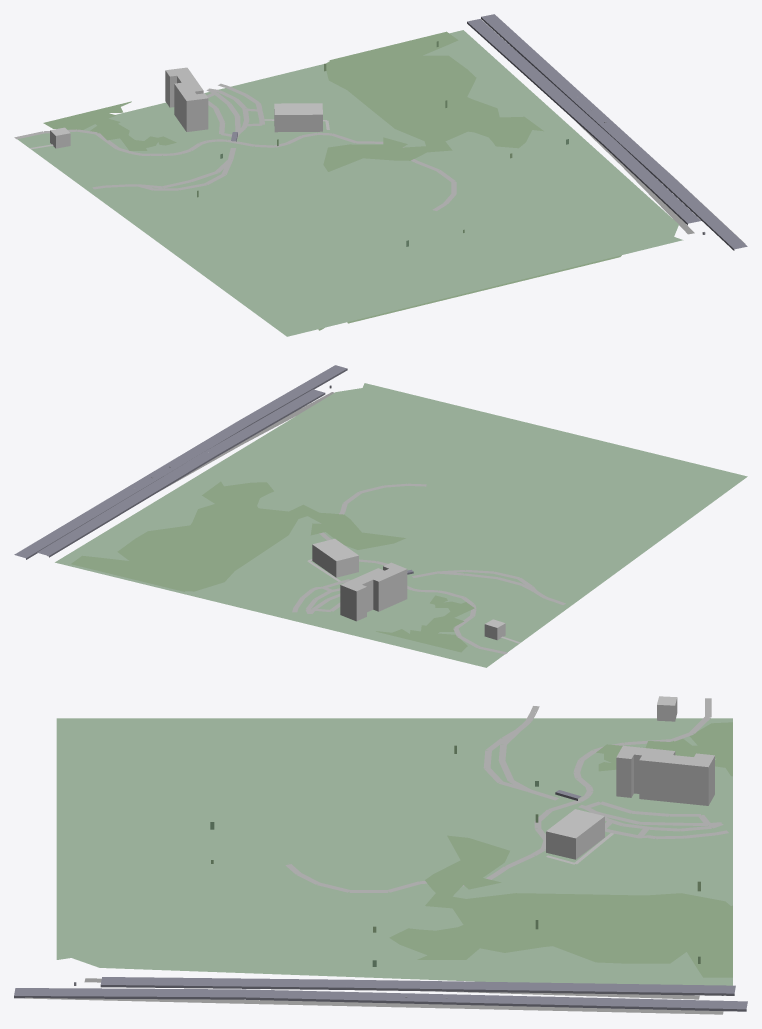
3 views of the same model, one above another, from view 1: azimuth 30°, elevation 25°; view 2: azimuth 150°, elevation 25°; view 3: azimuth 270°, elevation 25° (orthographic). The views are drawn at different scales.
Bounding box in the file's own units: 528 × 47.7 × 543.
